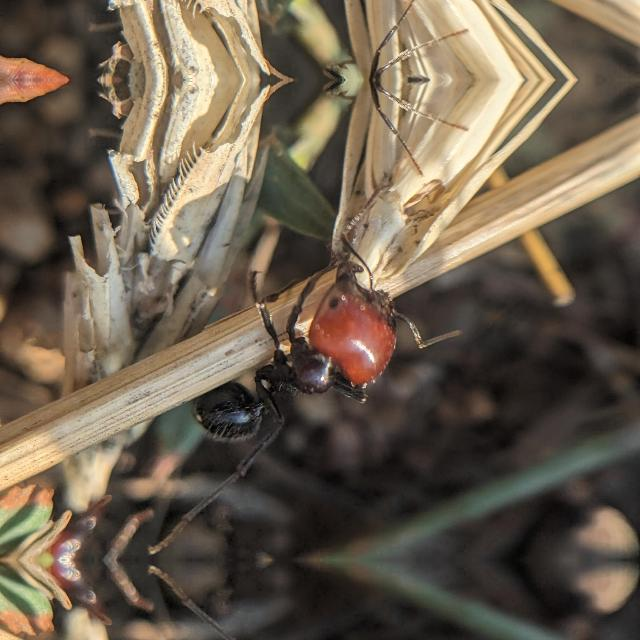Messor: (148, 242, 426, 480)
